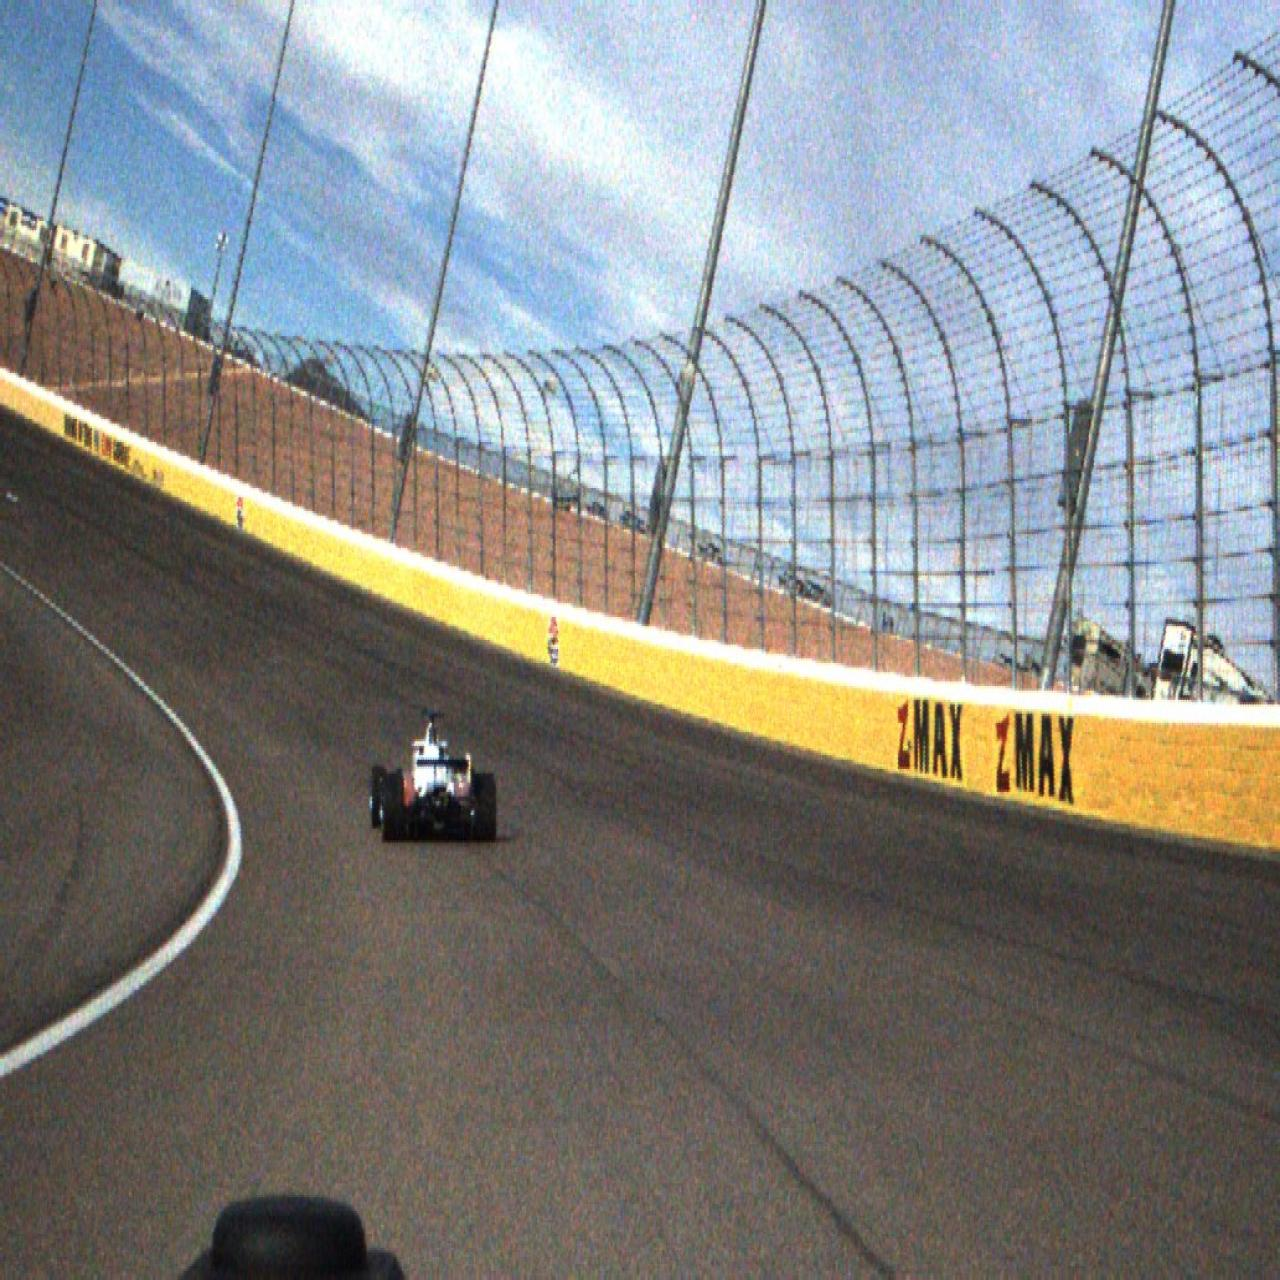AV: (370, 708, 496, 844)
Wheel: (473, 774, 496, 844), (381, 772, 403, 843), (370, 765, 387, 830)
